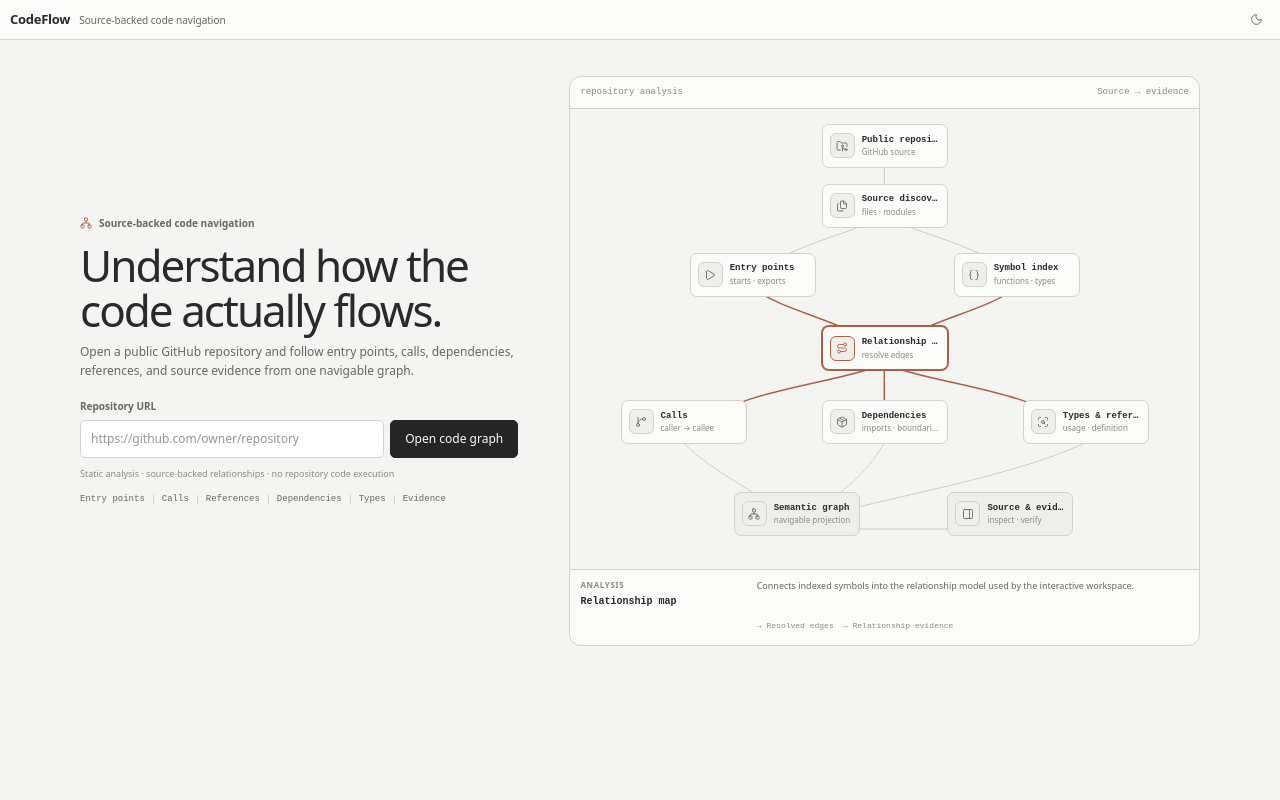
Scenario: App acquisition experience › starts from a detailed interactive public-repository landing
Expected: the heading "Understand how the code actually flows." is shown, [80,243,518,333]
Expected: the field labelled "Repository URL" is shown, [80,420,384,458]
Click the button "Entry points starts · exports": (753, 275) [690,253,816,297]
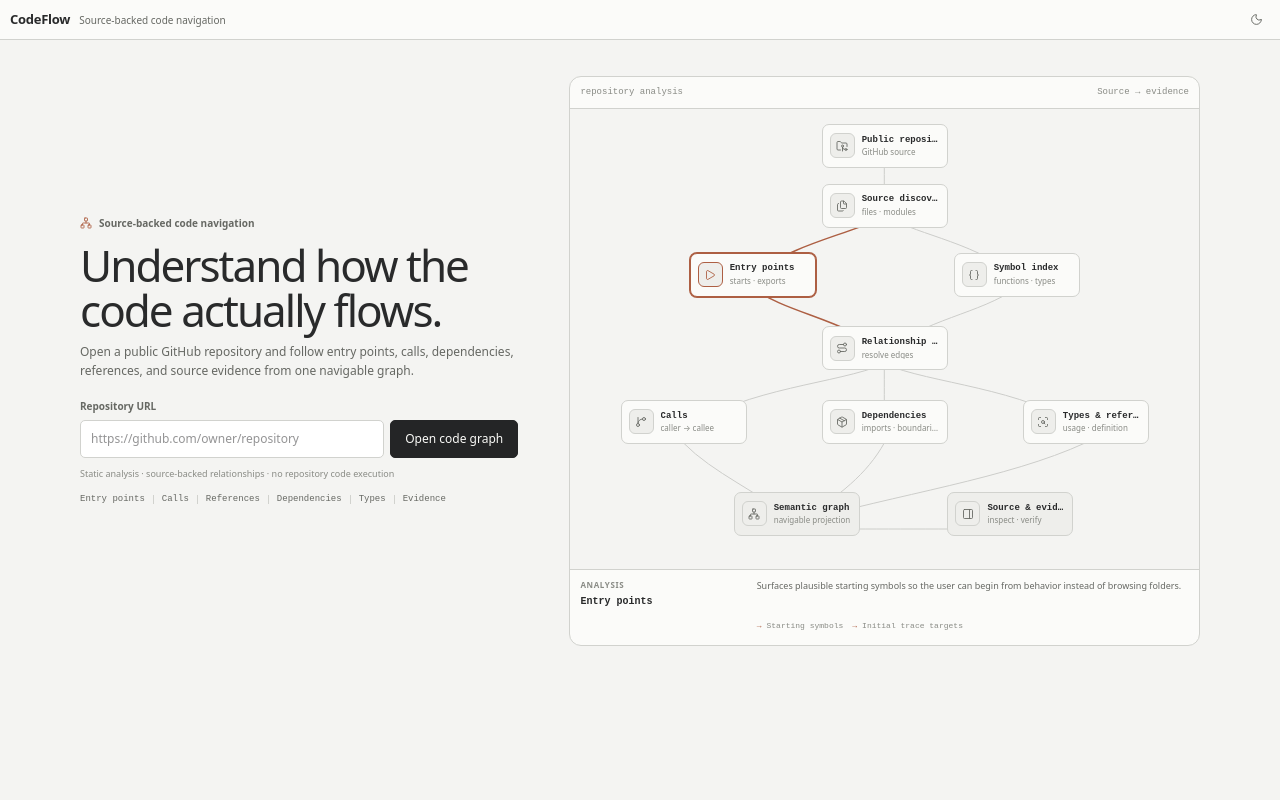
Now the text "Starting symbols" is shown, box [757,620,843,635]
Now the text "Initial trace targets" is shown, box [852,620,963,635]
